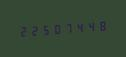eight: (94, 17, 104, 34)
five: (39, 21, 49, 37)
four: (72, 19, 82, 35), (83, 18, 93, 34)
seven: (61, 20, 71, 36)
two: (17, 23, 27, 39), (28, 22, 38, 38)
zero: (50, 20, 60, 37)
